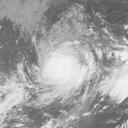cyclone: (36, 44, 89, 91)
